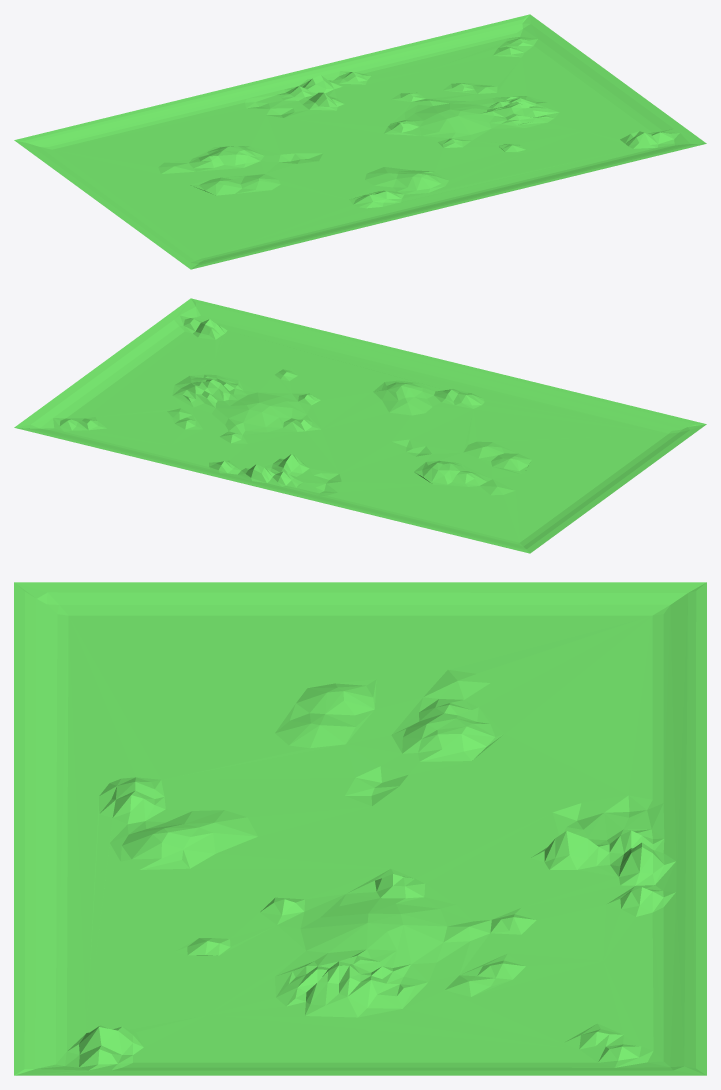
File: pistaLvl2V2.glb
The picture shows the model from 3 angles, top to bottom: view 1: azimuth 30°, elevation 25°; view 2: azimuth 150°, elevation 25°; view 3: azimuth 270°, elevation 25°; orthographic projection. The views are drawn at different scales.
Parts seen in each view (by area): view 1: Plane; view 2: Plane; view 3: Plane.
Part boxes in pixels (x1,y1,x2,y2): Plane: (14, 14, 706, 269); Plane: (14, 298, 706, 553); Plane: (14, 582, 706, 1075).
Size of the model in its own units: 641 by 17.49 by 380.
